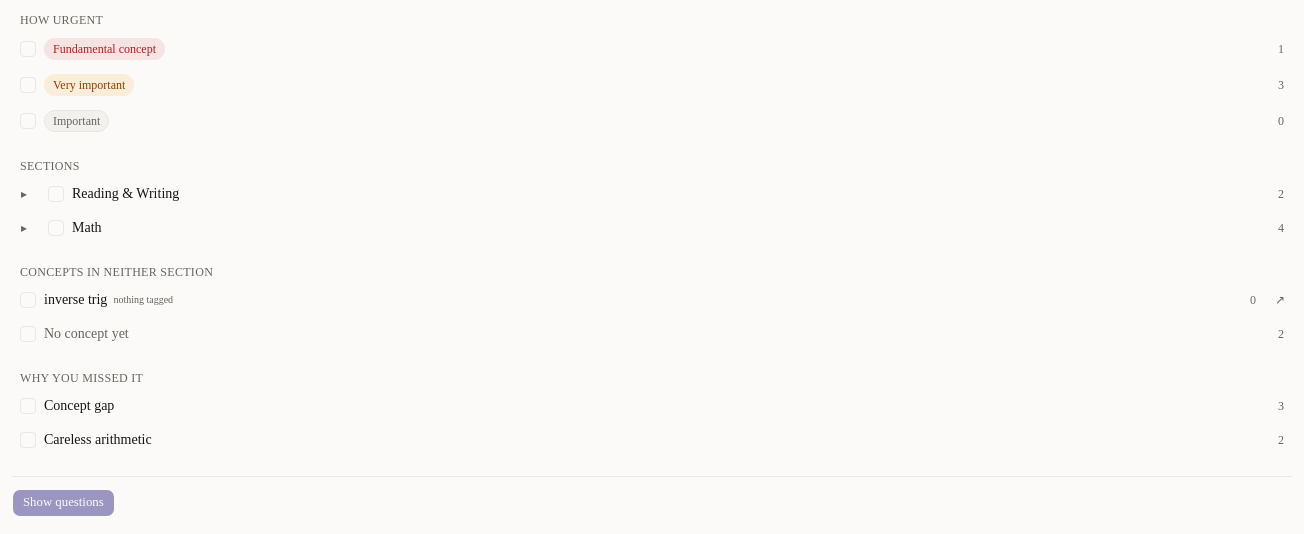
Categories › clears every selection at once
Expected: the heading "How urgent" is shown, 20,13 -> 103,27
Click the checkbox labelled "Very important 3". click: (89, 85)
box: 12,68 -> 1292,102
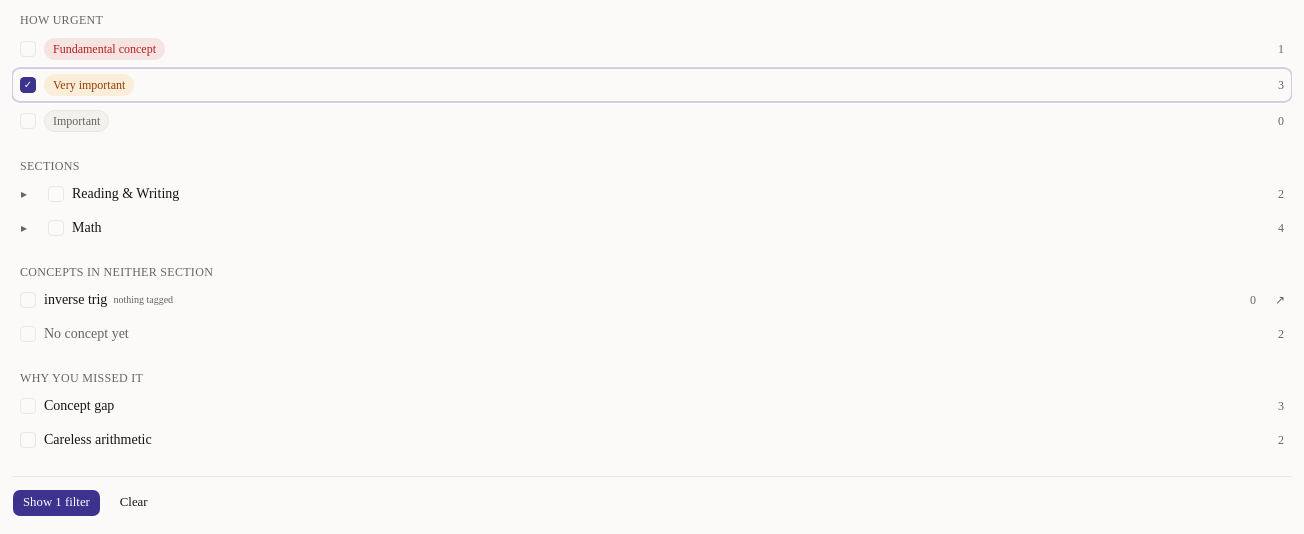
Click the checkbox labelled "Concept gap 3". click: (79, 406)
box: 12,390 -> 1292,422
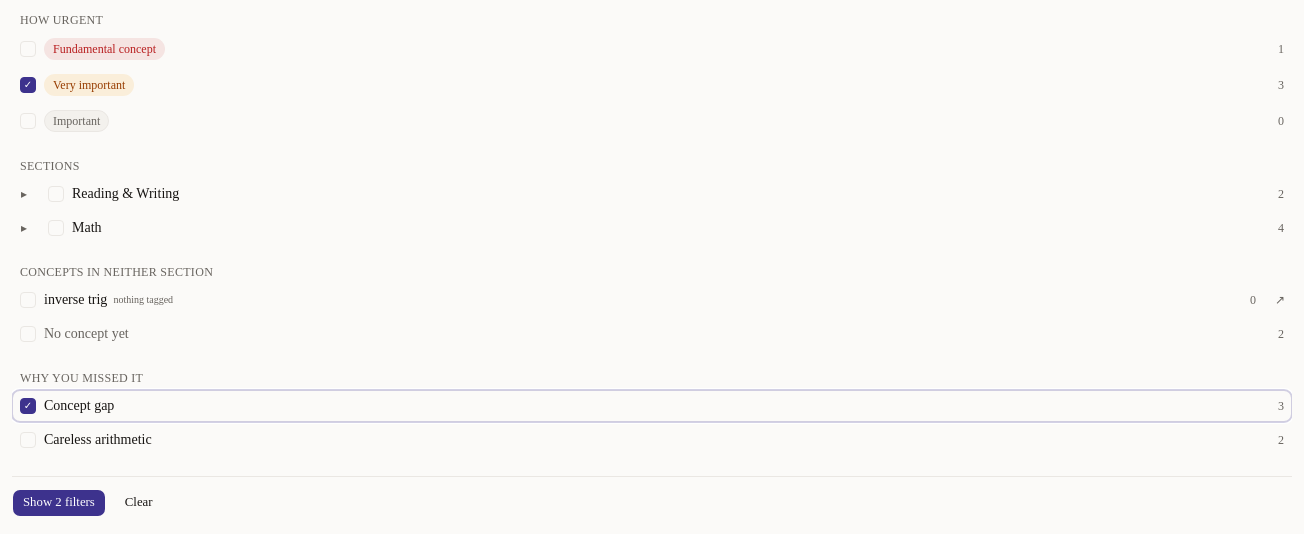
Expected: the button "Show 2 filters" is shown, 12,489 -> 106,517
Click the button "Clear". click: (139, 503)
box: 114,489 -> 164,517
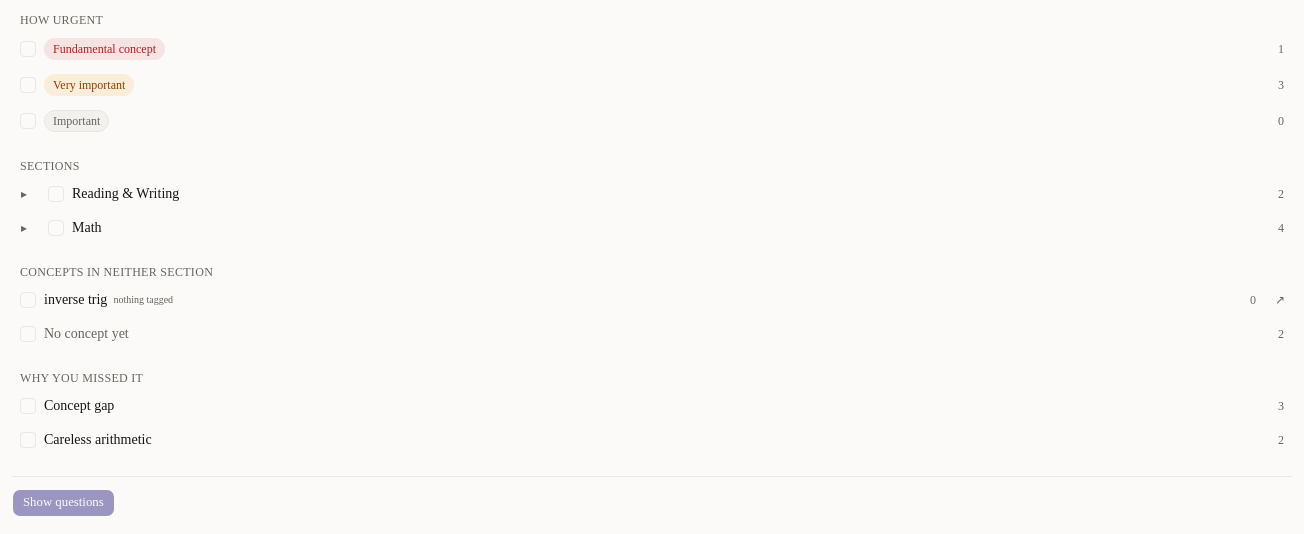
Expected: the button "Show questions" is disabled, 12,489 -> 115,517
